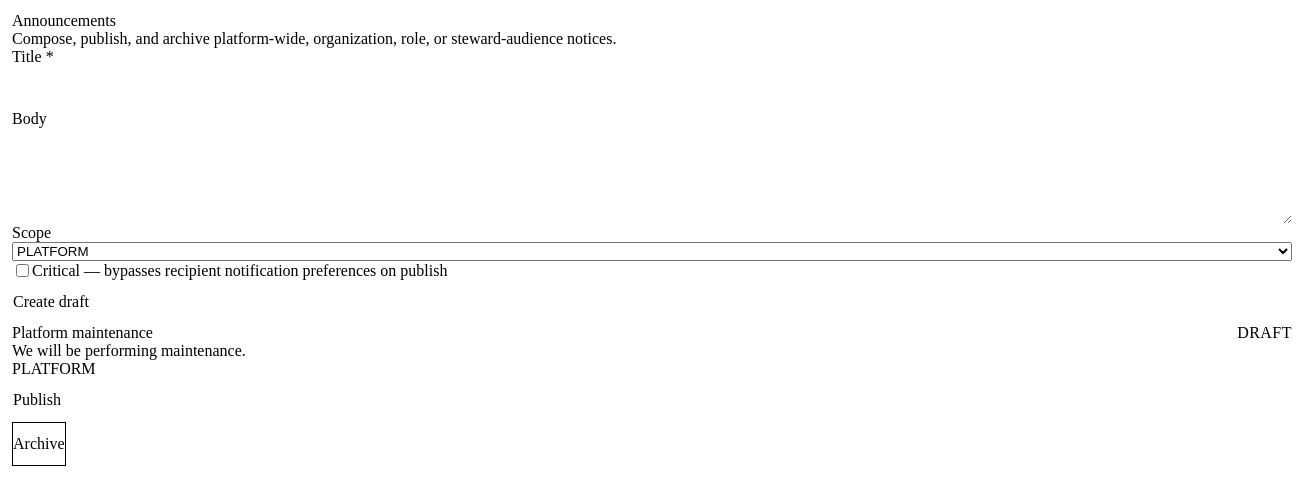
Test: AnnouncementsComposerPanel › publishes a draft announcement
Check: the text "Platform maintenance" is shown, box [12,324,153,342]
Step 1. Click the button "Publish" → [37, 400], box [12,378,62,422]
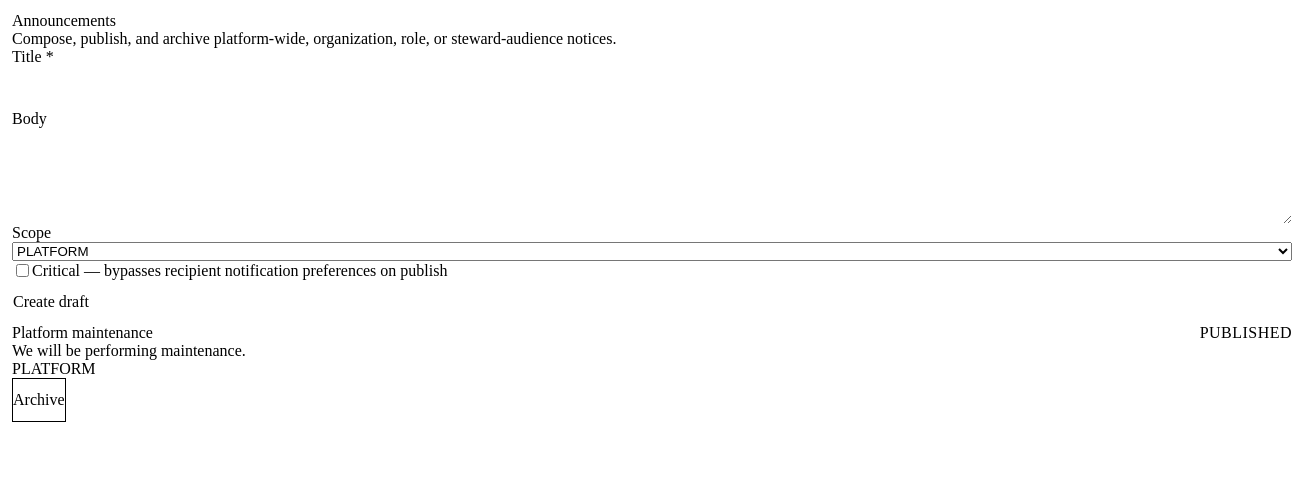
Check: the text "PUBLISHED" is shown, box [1200,324,1292,342]
